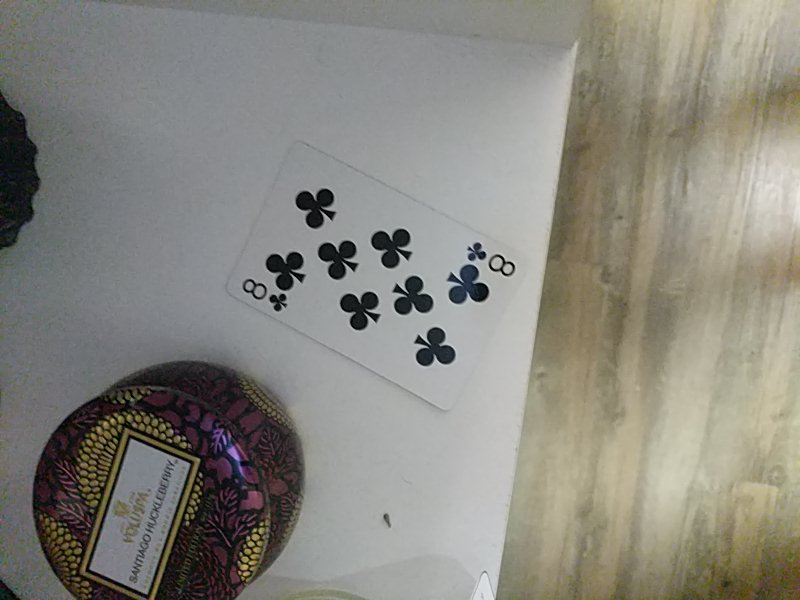Clubs: (221, 140, 532, 411)
